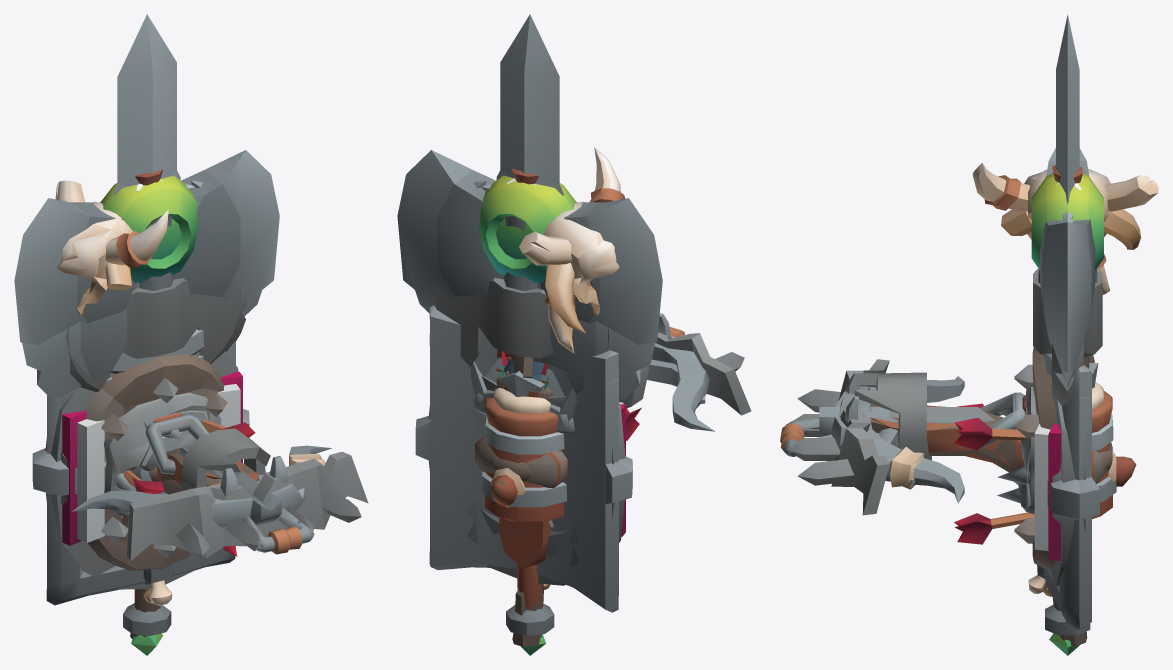
Rendered from weapons.glb.
The picture shows the model from 3 angles, left to right: view 1: azimuth 30°, elevation 25°; view 2: azimuth 150°, elevation 25°; view 3: azimuth 270°, elevation 25°; orthographic projection.
Visible parts, largest first — view 1: axe_2handed, Skeleton_Crossbow, Skeleton_Shield_Large_B, sword_2handed, Skeleton_Shield_Large_A, Skeleton_Axe, staff, crossbow_2handed, Skeleton_Staff, spellbook_open, shield_square_color, axe_1handed (+3 smaller); view 2: shield_square_color, axe_2handed, sword_2handed, Skeleton_Staff, staff, Skeleton_Axe, mug_full, axe_1handed, crossbow_2handed, Skeleton_Crossbow, shield_spikes_color, quiver (+8 smaller); view 3: Skeleton_Crossbow, crossbow_2handed, axe_2handed, Skeleton_Staff, staff, shield_square_color, Skeleton_Shield_Large_B, shield_spikes_color, sword_2handed, spellbook_open, Skeleton_Axe, Skeleton_Shield_Large_A (+3 smaller).
Boxes of the visible parts, x1,y1,x2,y2 form: axe_2handed: (14, 150, 279, 345); Skeleton_Crossbow: (127, 418, 368, 561); Skeleton_Shield_Large_B: (46, 351, 238, 587); sword_2handed: (117, 14, 176, 185); Skeleton_Shield_Large_A: (45, 365, 221, 589); Skeleton_Axe: (65, 278, 247, 391); staff: (100, 175, 203, 655); crossbow_2handed: (71, 414, 332, 554); Skeleton_Staff: (55, 180, 172, 638); spellbook_open: (62, 371, 242, 545); shield_square_color: (46, 329, 235, 605); axe_1handed: (22, 282, 139, 400); shield_square_color: (429, 305, 618, 612); axe_2handed: (397, 150, 662, 382); sword_2handed: (470, 14, 576, 427); Skeleton_Staff: (512, 147, 624, 646); staff: (474, 175, 576, 655); Skeleton_Axe: (429, 278, 611, 397); mug_full: (481, 387, 566, 521); axe_1handed: (511, 282, 654, 400); crossbow_2handed: (490, 313, 714, 505); Skeleton_Crossbow: (495, 332, 751, 492); shield_spikes_color: (415, 333, 632, 563); quiver: (499, 365, 550, 568); Skeleton_Crossbow: (786, 359, 1131, 515); crossbow_2handed: (780, 372, 1136, 503); axe_2handed: (1038, 148, 1097, 387); Skeleton_Staff: (972, 163, 1158, 645); staff: (1031, 173, 1103, 655); shield_square_color: (1044, 354, 1091, 630); Skeleton_Shield_Large_B: (1014, 347, 1107, 585); shield_spikes_color: (997, 397, 1099, 578); sword_2handed: (1056, 14, 1098, 388); spellbook_open: (1034, 423, 1060, 560); Skeleton_Axe: (1033, 268, 1102, 406); Skeleton_Shield_Large_A: (1020, 354, 1108, 587).
Bounding box in the file's own units: 1.24 × 2.86 × 1.53.
5 materials, 5 textured.
